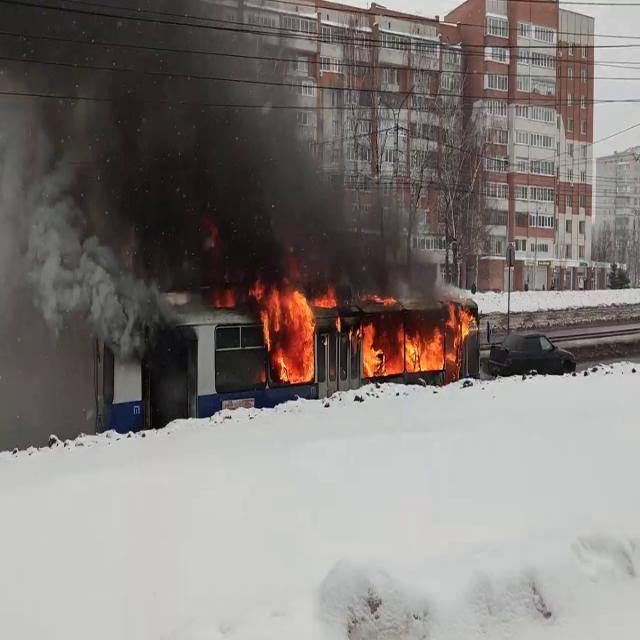Fire: (352, 300, 478, 380), (258, 280, 322, 384)
Smoke: (0, 20, 442, 307)
